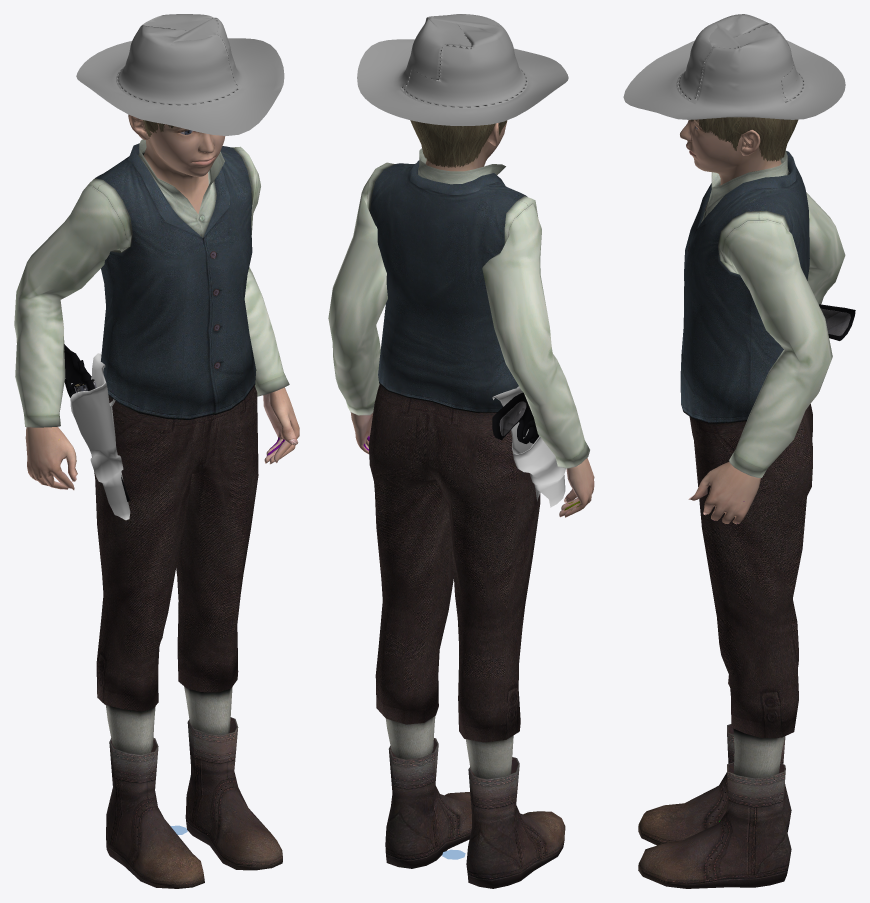
File: JerryModel.obj
The picture shows the model from 3 angles, left to right: view 1: azimuth 30°, elevation 25°; view 2: azimuth 150°, elevation 25°; view 3: azimuth 270°, elevation 25°; orthographic projection.
Parts seen in each view (by area): view 1: Boy, hatWhite, beltJerry, revolver6; view 2: Boy, hatWhite, beltJerry, revolver6; view 3: Boy, hatWhite, revolver2.
Part boxes in pixels (box(x1,y1,x2,y2)): Boy: box(14, 114, 299, 888); hatWhite: box(76, 14, 284, 135); beltJerry: box(70, 353, 130, 520); revolver6: box(64, 344, 94, 397); Boy: box(328, 120, 594, 888); hatWhite: box(357, 14, 568, 126); beltJerry: box(492, 386, 565, 507); revolver6: box(492, 392, 538, 443); Boy: box(638, 117, 845, 888); hatWhite: box(623, 14, 845, 119); revolver2: box(821, 308, 850, 335).
Size of the model in its own units: 58.13 by 184 by 46.97.
